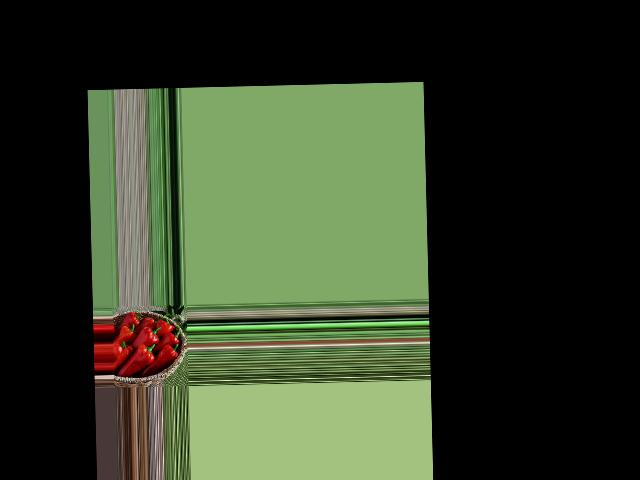bell_pepper: (161, 329, 182, 347)
